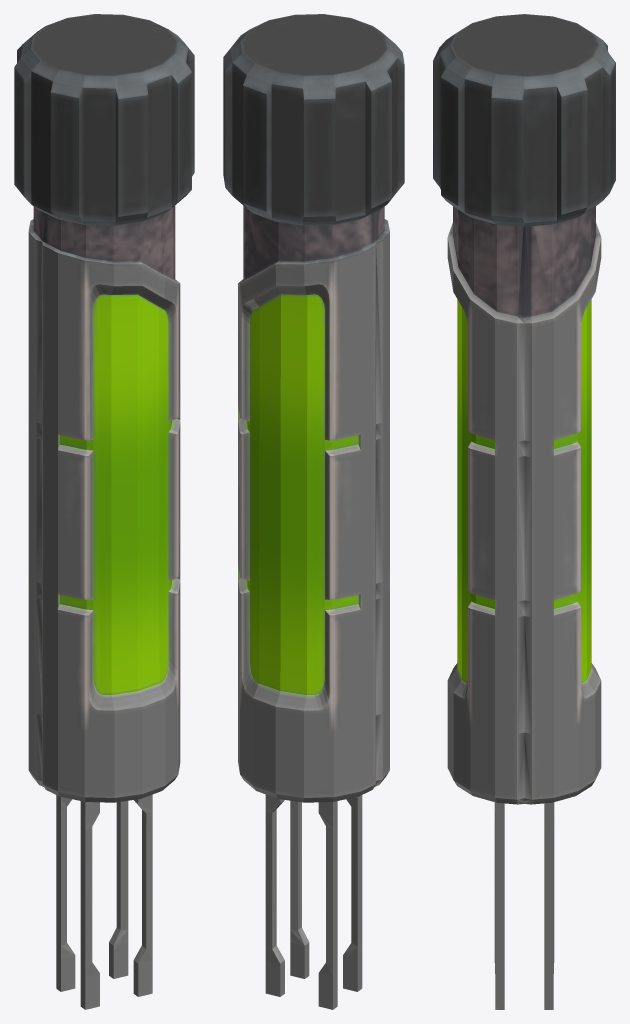
File: syringe.fbx
3 renders of one model, left to right at view 1: azimuth 30°, elevation 25°; view 2: azimuth 150°, elevation 25°; view 3: azimuth 270°, elevation 25°, orthographic.
Visible parts, largest first — view 1: syringe_LOD0; view 2: syringe_LOD0; view 3: syringe_LOD0.
Boxes of the visible parts, x1,y1,x2,y2 form: syringe_LOD0: (14, 14, 194, 1009); syringe_LOD0: (223, 14, 404, 1009); syringe_LOD0: (433, 14, 615, 1009).
Size of what is drawn, in the model's own units: 0.035 by 0.2 by 0.035.
1 material, 1 textured.
